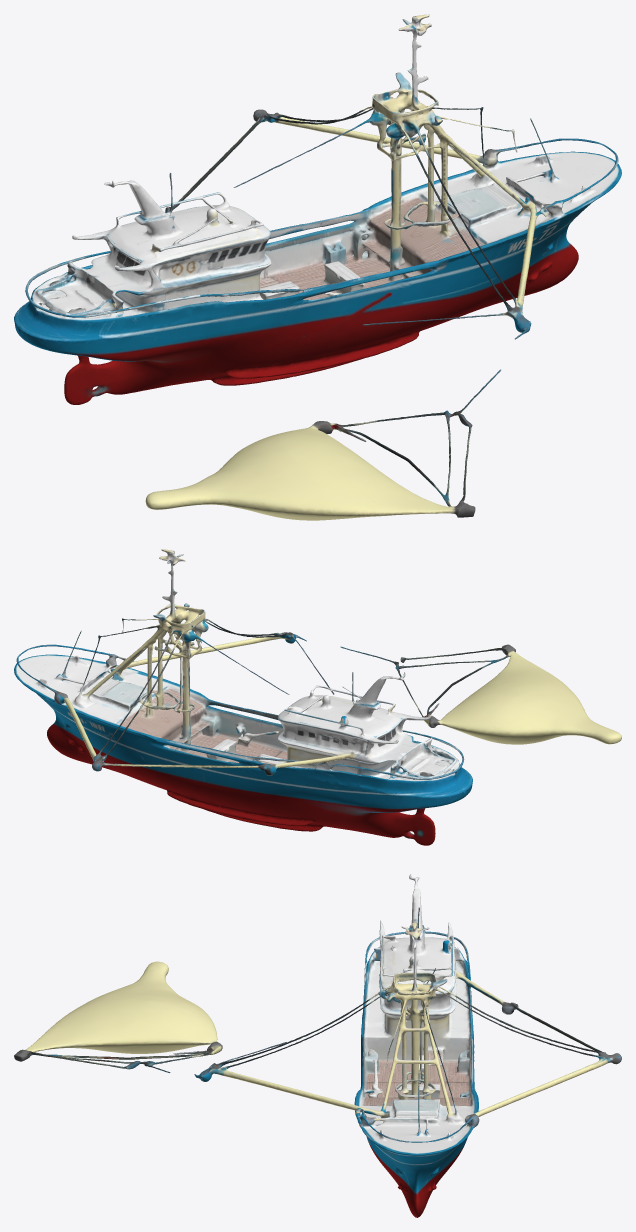
Rendered from fishing.glb.
The picture shows the model from 3 angles, top to bottom: view 1: azimuth 30°, elevation 25°; view 2: azimuth 150°, elevation 25°; view 3: azimuth 270°, elevation 25°; orthographic projection. The views are drawn at different scales.
Visible parts, largest first — view 1: mesh_node; view 2: mesh_node; view 3: mesh_node.
Part boxes in pixels (x1=…): mesh_node: x1=14, y1=14, x2=621, y2=520; mesh_node: x1=14, y1=549, x2=621, y2=845; mesh_node: x1=14, y1=874, x2=621, y2=1217.
Size of the model in its own units: 1.6 by 0.7675 by 1.68.
Materials: 1 (1 with a texture image).
